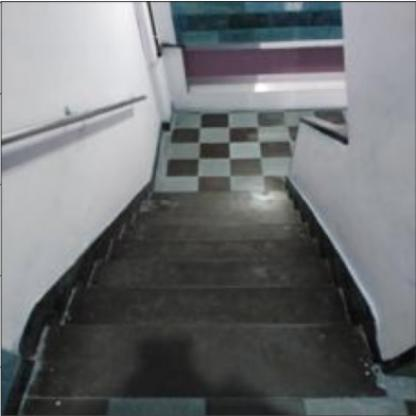stair_down: (46, 258, 354, 370)
